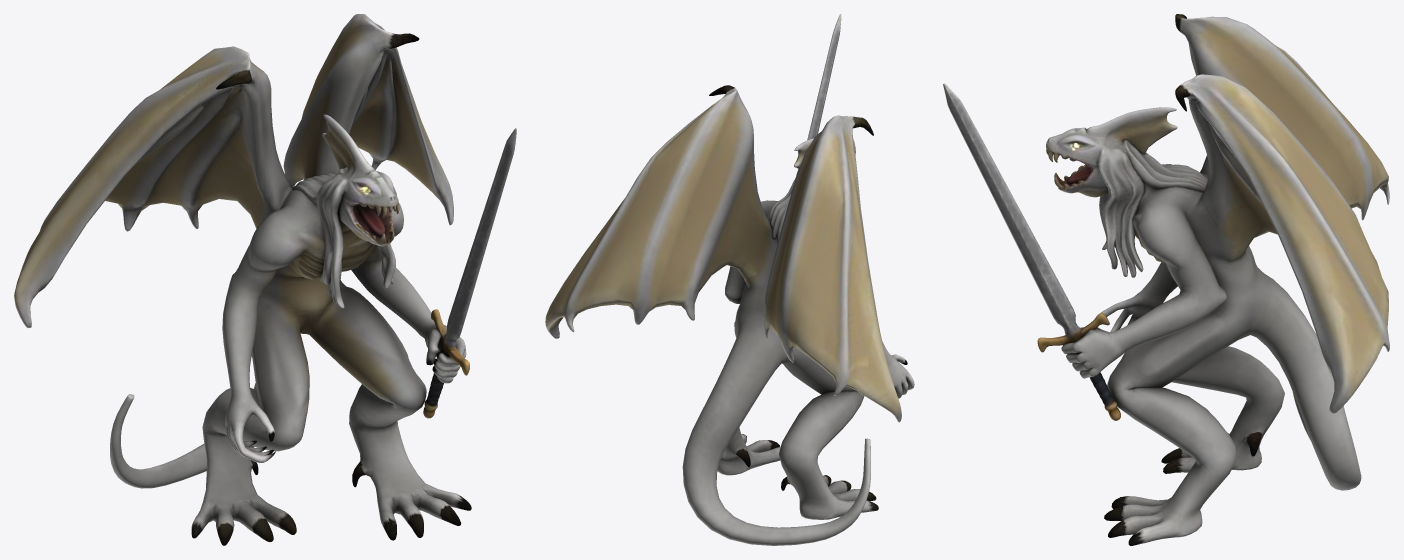
The model's file is MZ4250 - White Abishai.glb.
The picture shows the model from 3 angles, left to right: view 1: azimuth 30°, elevation 25°; view 2: azimuth 150°, elevation 25°; view 3: azimuth 270°, elevation 25°; orthographic projection. The views are drawn at different scales.
Visible parts, largest first — view 1: Head Base Sphere.001; view 2: Head Base Sphere.001; view 3: Head Base Sphere.001.
Part boxes in pixels (x1,y1,x2,y2): Head Base Sphere.001: (14,14,516,545); Head Base Sphere.001: (545,14,914,545); Head Base Sphere.001: (943,14,1389,545).
Bounding box in the file's own units: 0.9121 × 0.9566 × 0.8645.
Materials: 1 (1 with a texture image).
